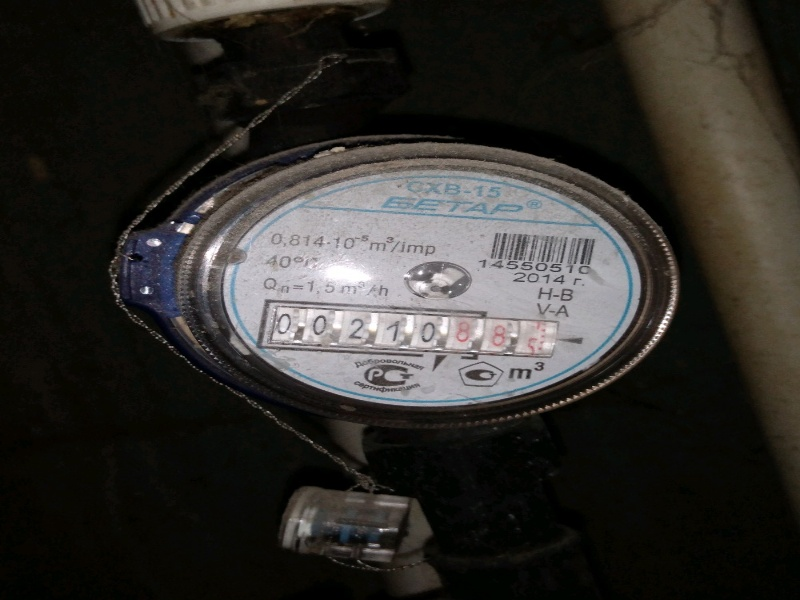meter: (276, 306, 545, 353)
